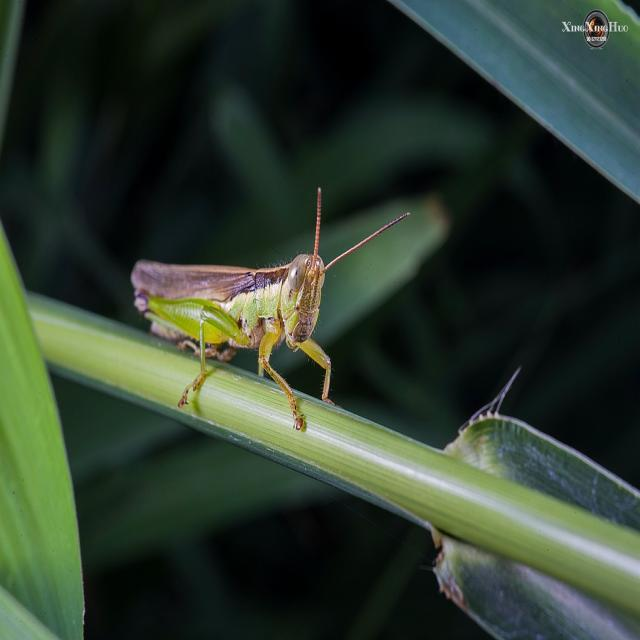ZhaMeng: (130, 205, 389, 405)
